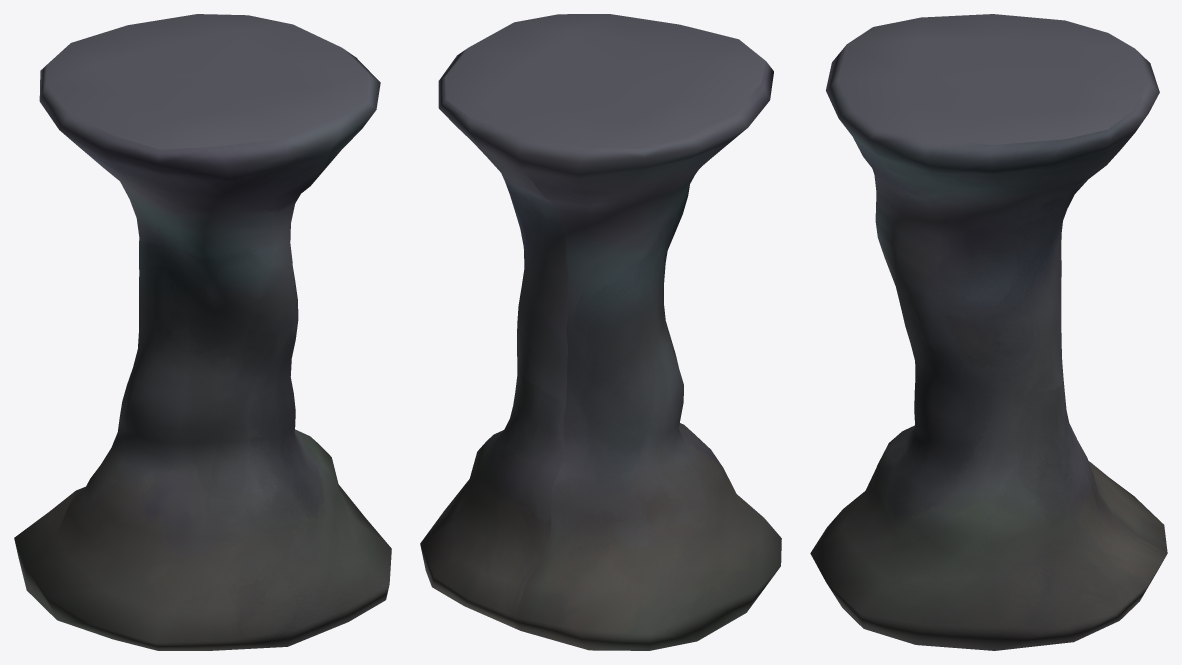
The model's file is RockCornerPillar.fbx.
The picture shows the model from 3 angles, left to right: view 1: azimuth 30°, elevation 25°; view 2: azimuth 150°, elevation 25°; view 3: azimuth 270°, elevation 25°; orthographic projection.
Parts seen in each view (by area): view 1: RockCornerPillar; view 2: RockCornerPillar; view 3: RockCornerPillar.
Part boxes in pixels (x1,y1,x2,y2): RockCornerPillar: (14,14,391,650); RockCornerPillar: (420,14,781,650); RockCornerPillar: (810,14,1167,650).
Size of the model in its own units: 178 by 275 by 175.
Materials: 1 (1 with a texture image).
